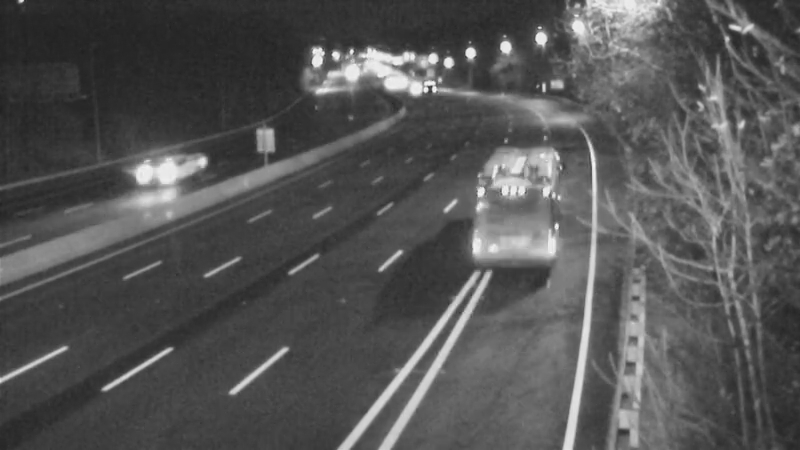vehicle: (472, 163, 552, 243), (128, 129, 208, 209), (366, 58, 416, 108), (394, 60, 444, 110), (389, 65, 439, 115)
